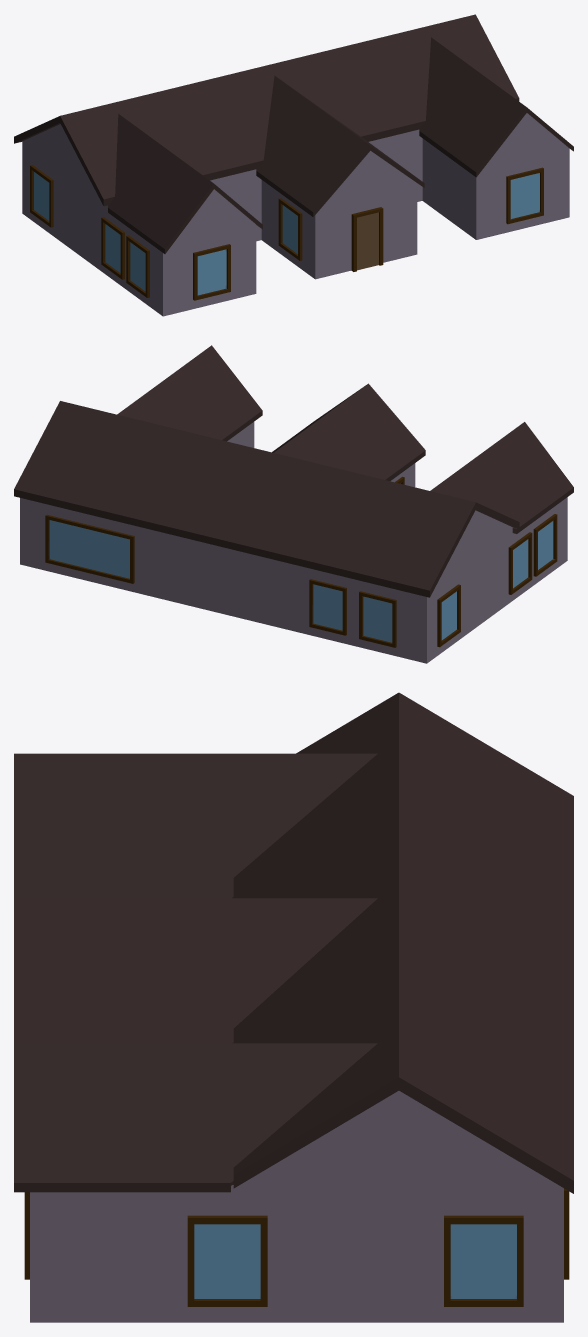
File: OSHouse07.glb
3 renders of one model, top to bottom at view 1: azimuth 30°, elevation 25°; view 2: azimuth 150°, elevation 25°; view 3: azimuth 270°, elevation 25°, orthographic. The views are drawn at different scales.
Parts seen in each view (by area): view 1: OSHouse07Roof, OSHouse07; view 2: OSHouse07Roof, OSHouse07; view 3: OSHouse07Roof, OSHouse07.
Part boxes in pixels (x1=…): OSHouse07Roof: x1=14, y1=14, x2=573, y2=253; OSHouse07: x1=22, y1=113, x2=569, y2=316; OSHouse07Roof: x1=14, y1=345, x2=573, y2=597; OSHouse07: x1=20, y1=422, x2=567, y2=663; OSHouse07Roof: x1=14, y1=692, x2=573, y2=1193; OSHouse07: x1=24, y1=1091, x2=569, y2=1322.
Size of what is drawn, in the model's own units: 10.41 by 3.13 by 6.4.
Materials: 2 (1 with a texture image).
